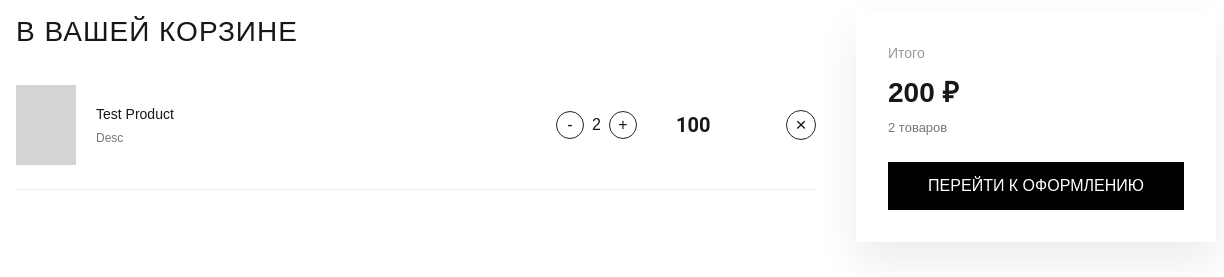
Test: CartPage › decrease quantity button works
Step 1. Click the button with test id "decrease-btn" → (570, 125), box [556,111,584,139]
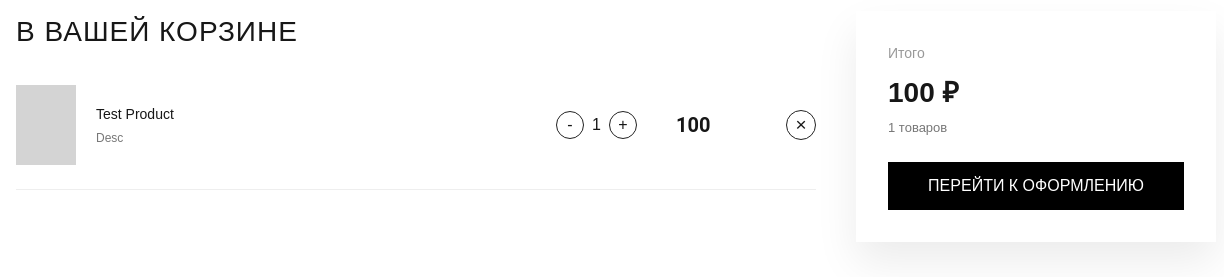
Now the text "1" is shown, box [592,113,601,137]
